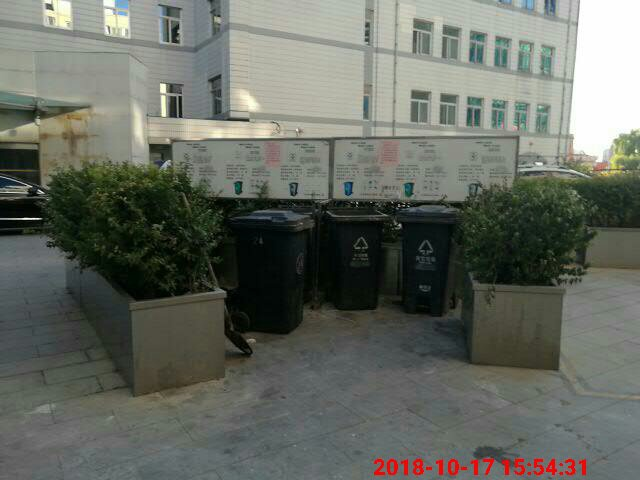trash: (214, 168, 472, 349)
